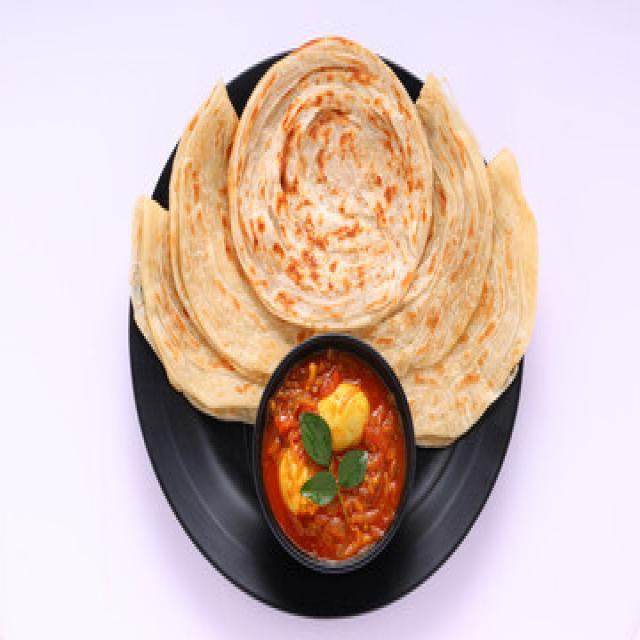KURMA: (264, 351, 401, 565)
PAROTTA: (136, 37, 540, 447)
